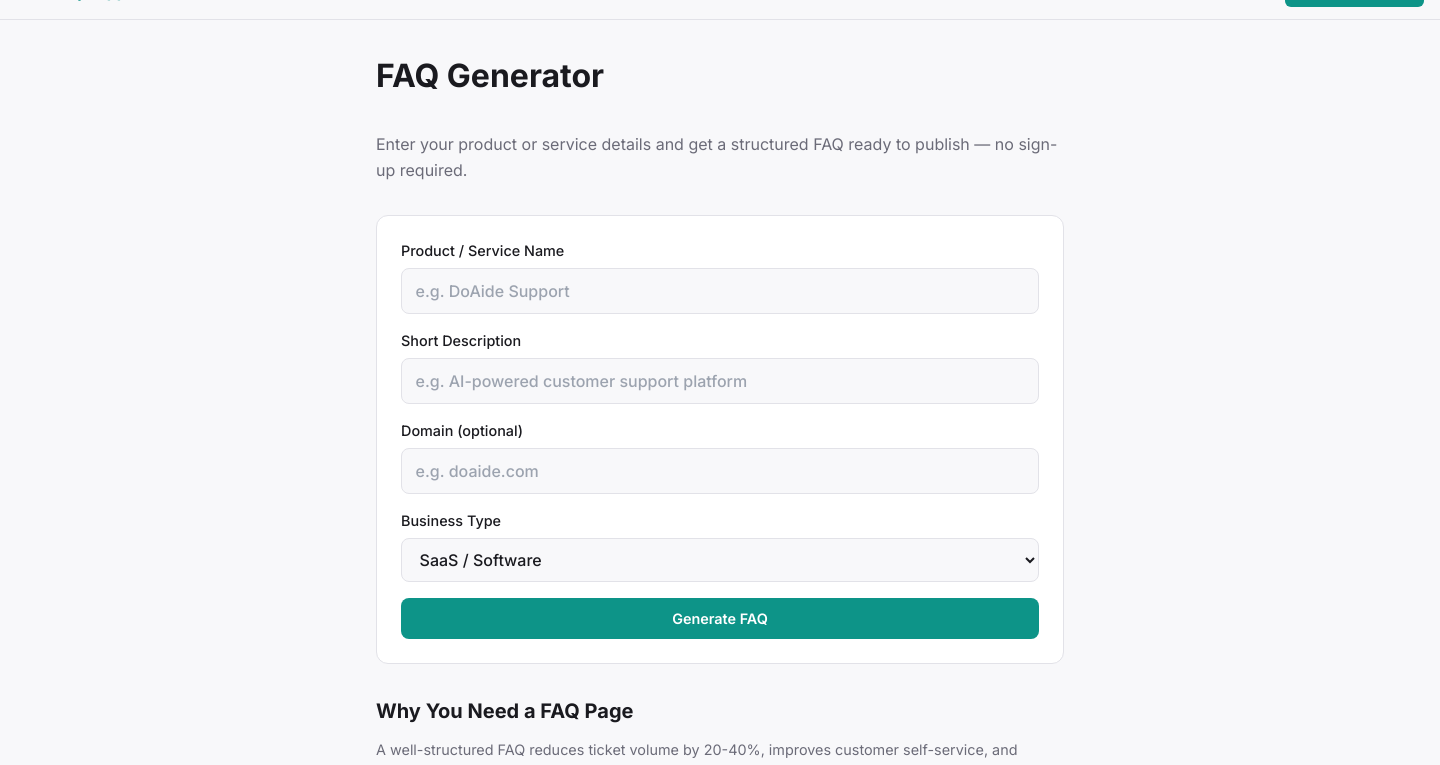
Scenario: FAQGeneratorPage › generates FAQs on button click
The width and height of the screenshot is (1440, 765).
Type "TestApp" into the field with placeholder "e.g. DoAide Support".
click(720, 291); type("TestApp")  # box top-left (401, 268), bottom-right (1039, 314)
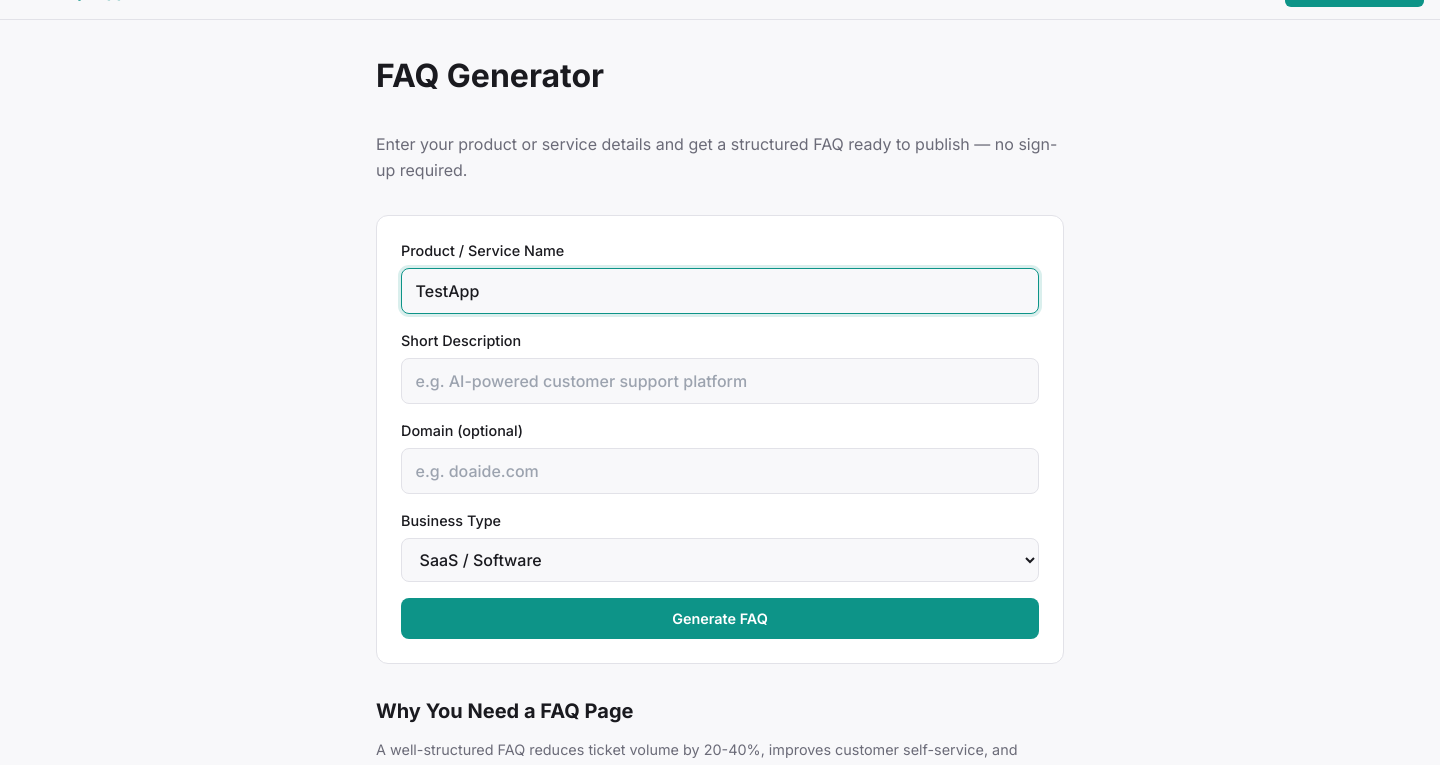
Click the button "Generate FAQ".
click(720, 619)  # box top-left (401, 598), bottom-right (1039, 639)
(page scrolled)
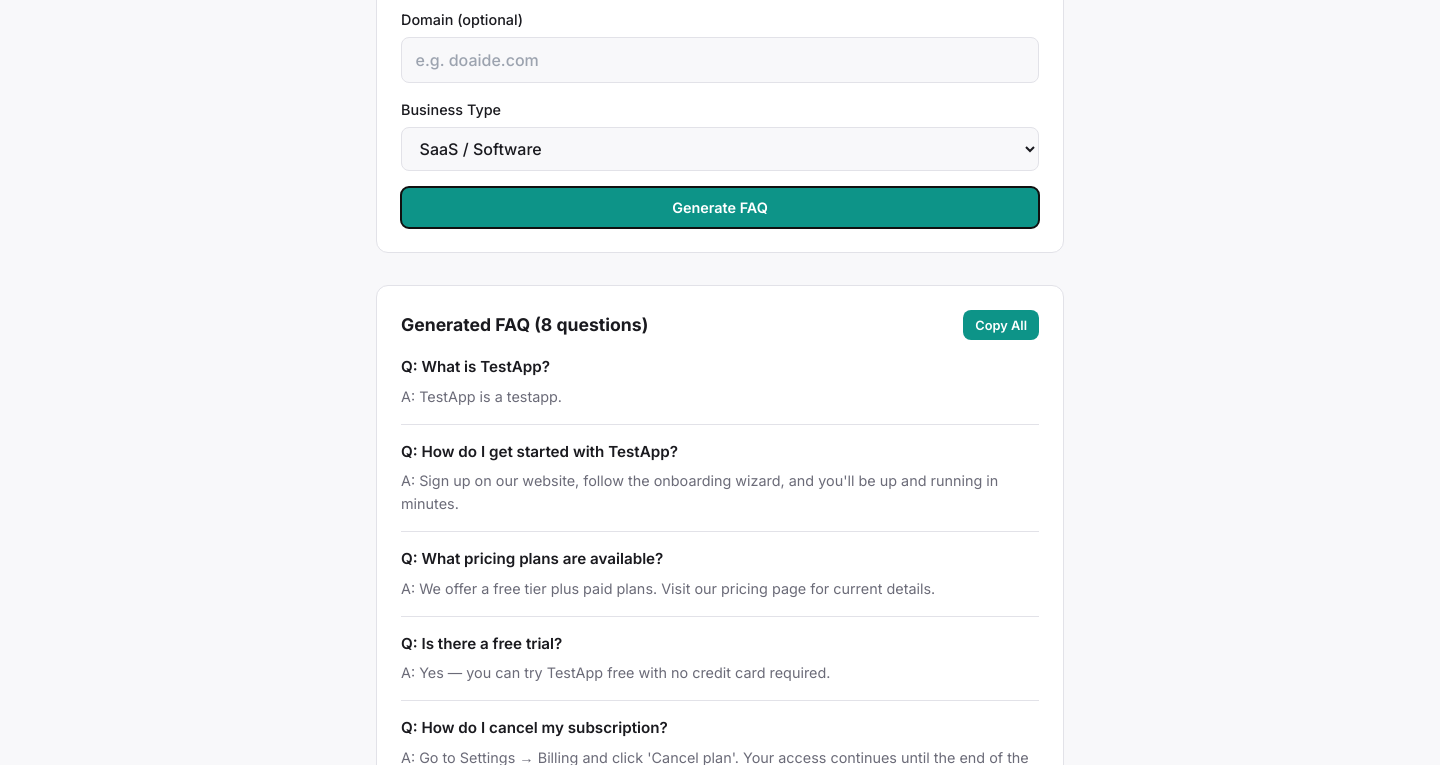
expect the heading "Generated FAQ (8 questions)" is shown: met, box top-left (401, 312), bottom-right (648, 338)
expect the text "Q: What is TestApp?" is shown: met, box top-left (401, 358), bottom-right (550, 376)
